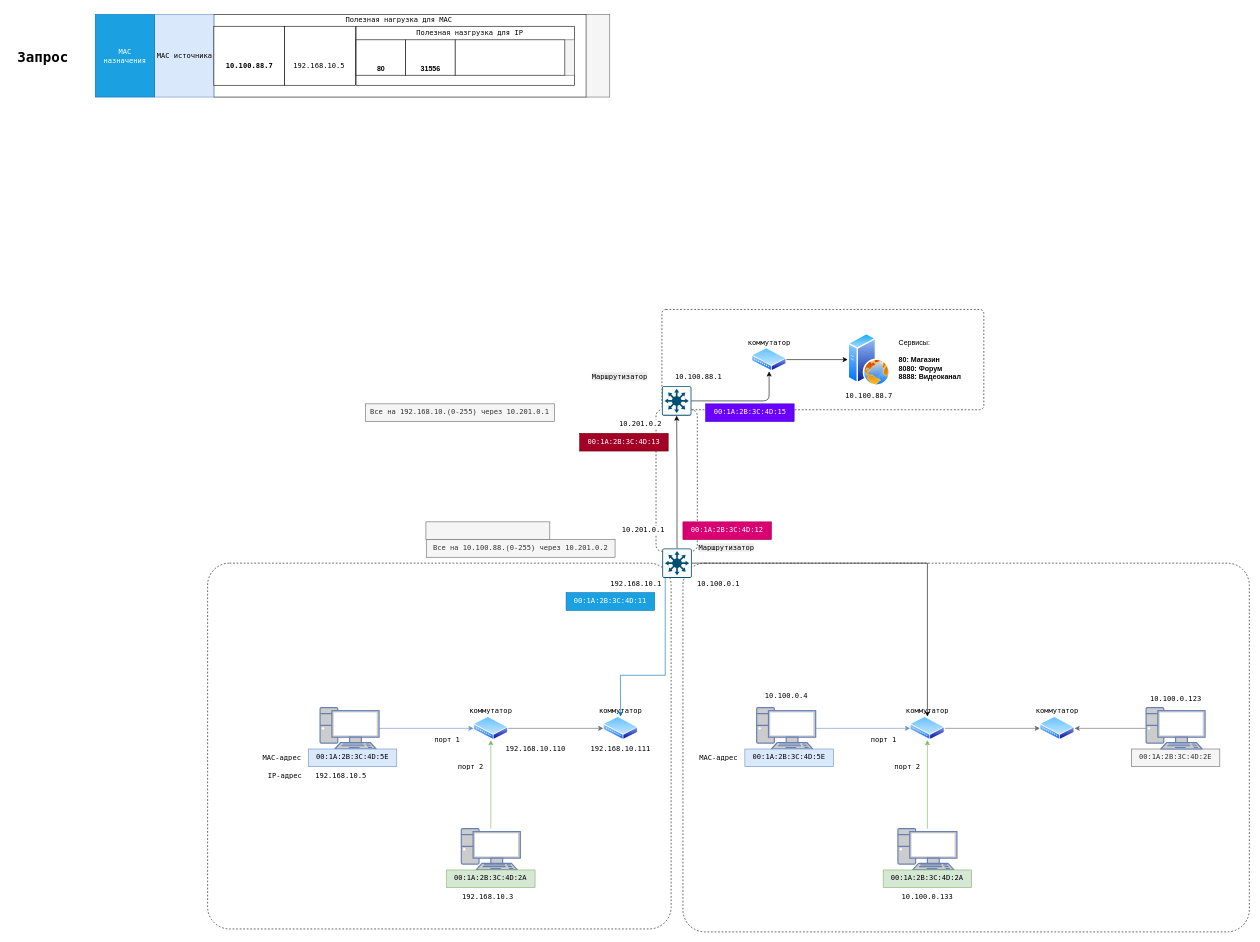
Image size: 1260x942. Some labels were removed from this diagram. Here are the shapes that lost their labels. From the top down, the box of each, then its label:
(213, 26, 285, 85): IP назначения
(284, 26, 355, 85): IP источника
(355, 39, 406, 75): port назначения
(405, 39, 455, 75): port источника
(455, 39, 565, 75): Полезная назгрузка
(586, 14, 610, 97): CRC
(425, 521, 550, 540): По умолчанию на 10.201.0.2
